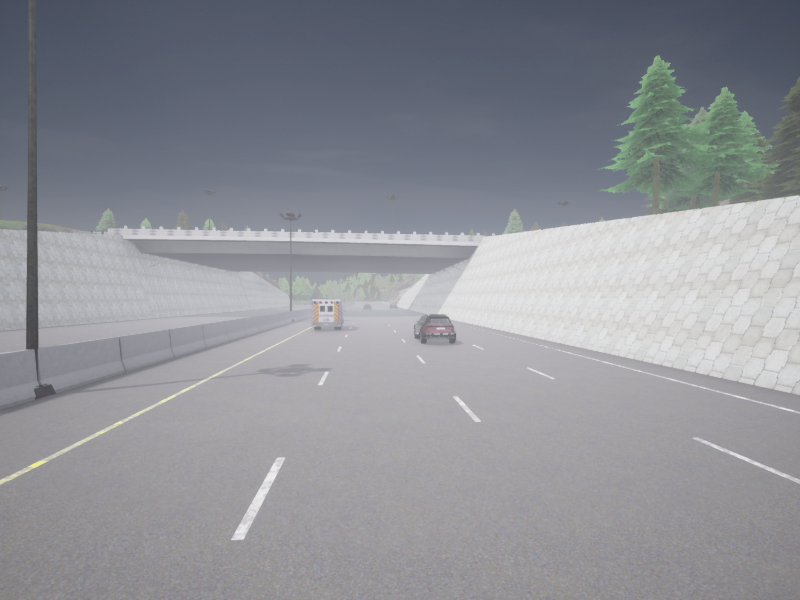vehicle: (414, 314, 455, 343), (311, 300, 345, 329), (363, 304, 371, 309), (389, 303, 396, 308)
